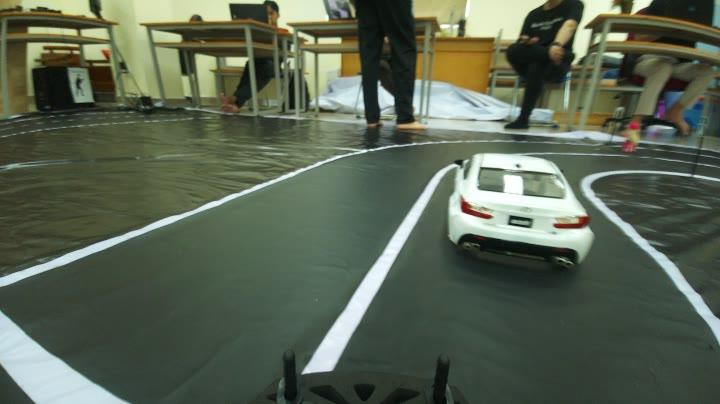car: (432, 127, 604, 283)
